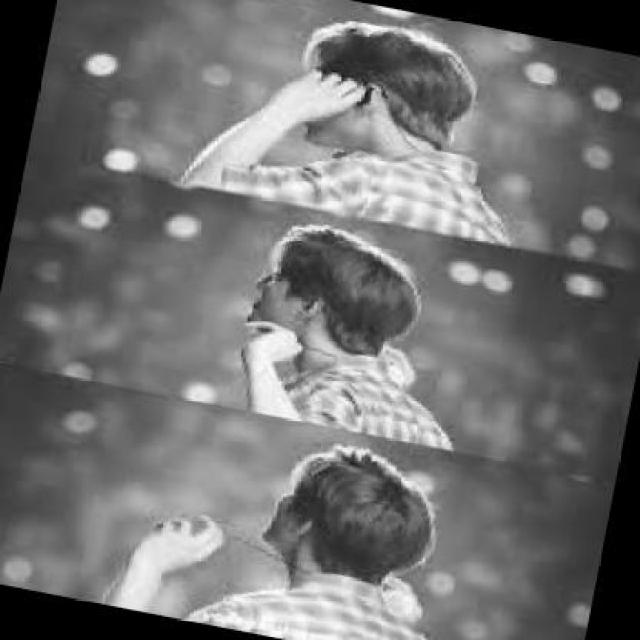earphone: (292, 284, 324, 323), (354, 82, 379, 111)
